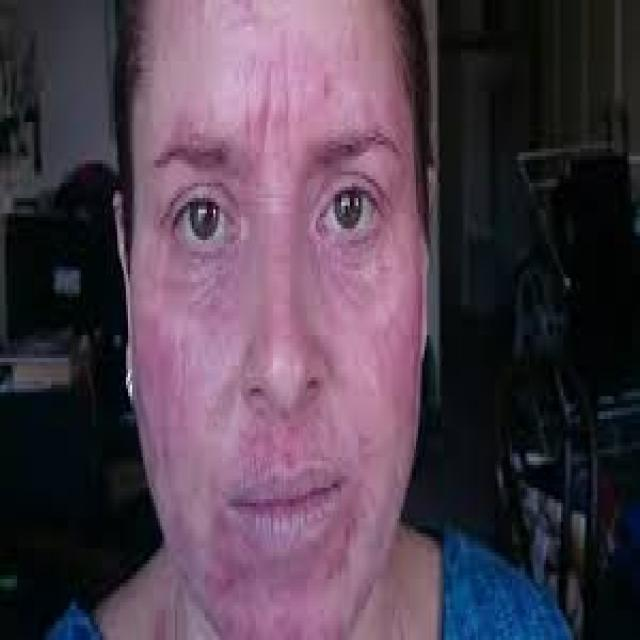Eczema: (140, 315, 228, 457), (208, 559, 348, 630), (372, 320, 422, 429)
